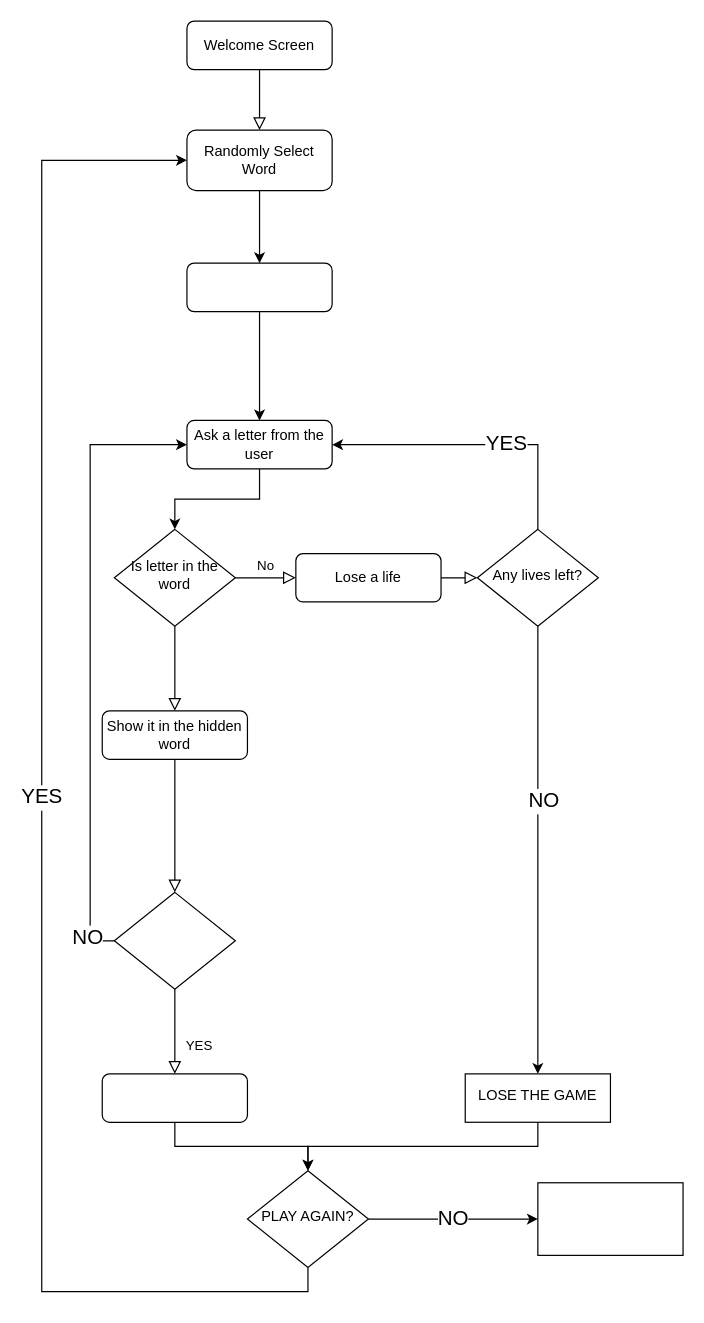
This 704x1323 diagram has some shape labels left out. The centre of each missing label's shape, as x and y in pixels:
BYE: point (610, 1218)
Is word fully reveald?: point (174, 940)
Show the number of letters: point (259, 287)
Won the Game: point (174, 1097)
